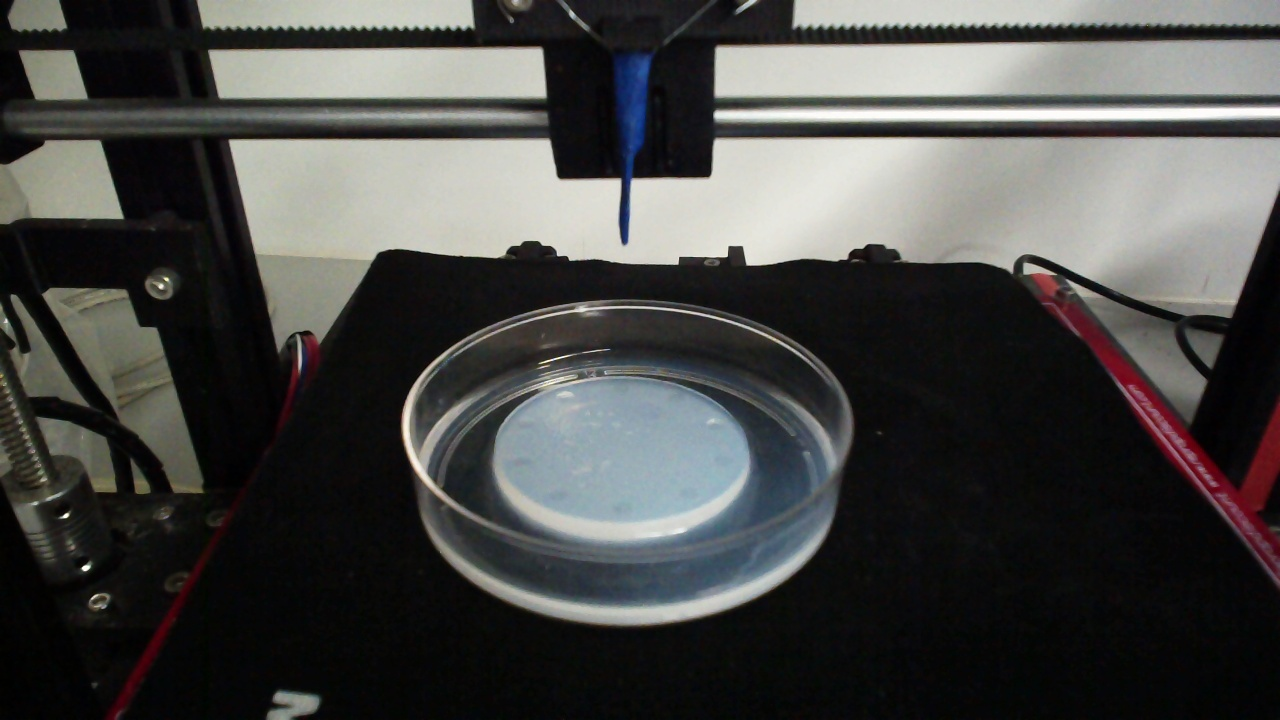groove: (678, 483, 701, 503), (546, 486, 571, 504), (711, 452, 735, 469), (611, 498, 632, 517), (705, 417, 729, 432), (517, 415, 538, 431), (609, 381, 630, 397), (665, 391, 687, 405), (509, 454, 530, 468), (556, 391, 576, 405)
needle: (611, 53, 649, 244)
